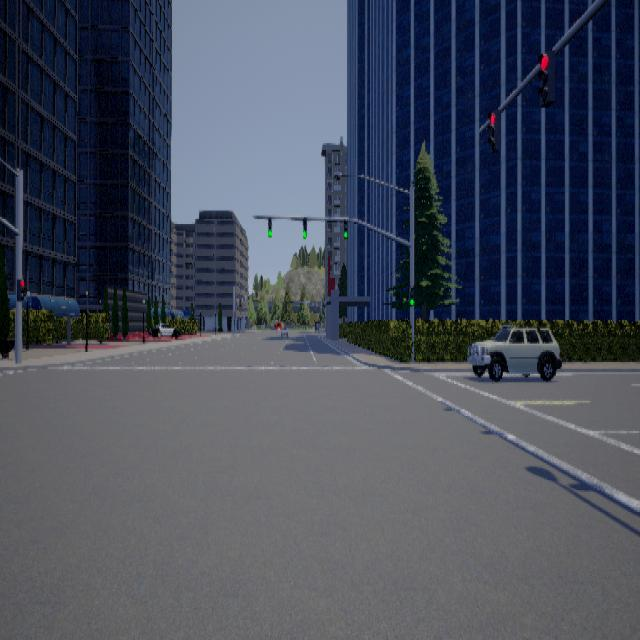green_light: (408, 284, 413, 304), (302, 215, 306, 238), (343, 218, 347, 238), (268, 216, 272, 236)
red_light: (537, 49, 554, 106), (487, 108, 500, 152), (16, 278, 25, 300)
vehicle: (466, 322, 561, 381)
